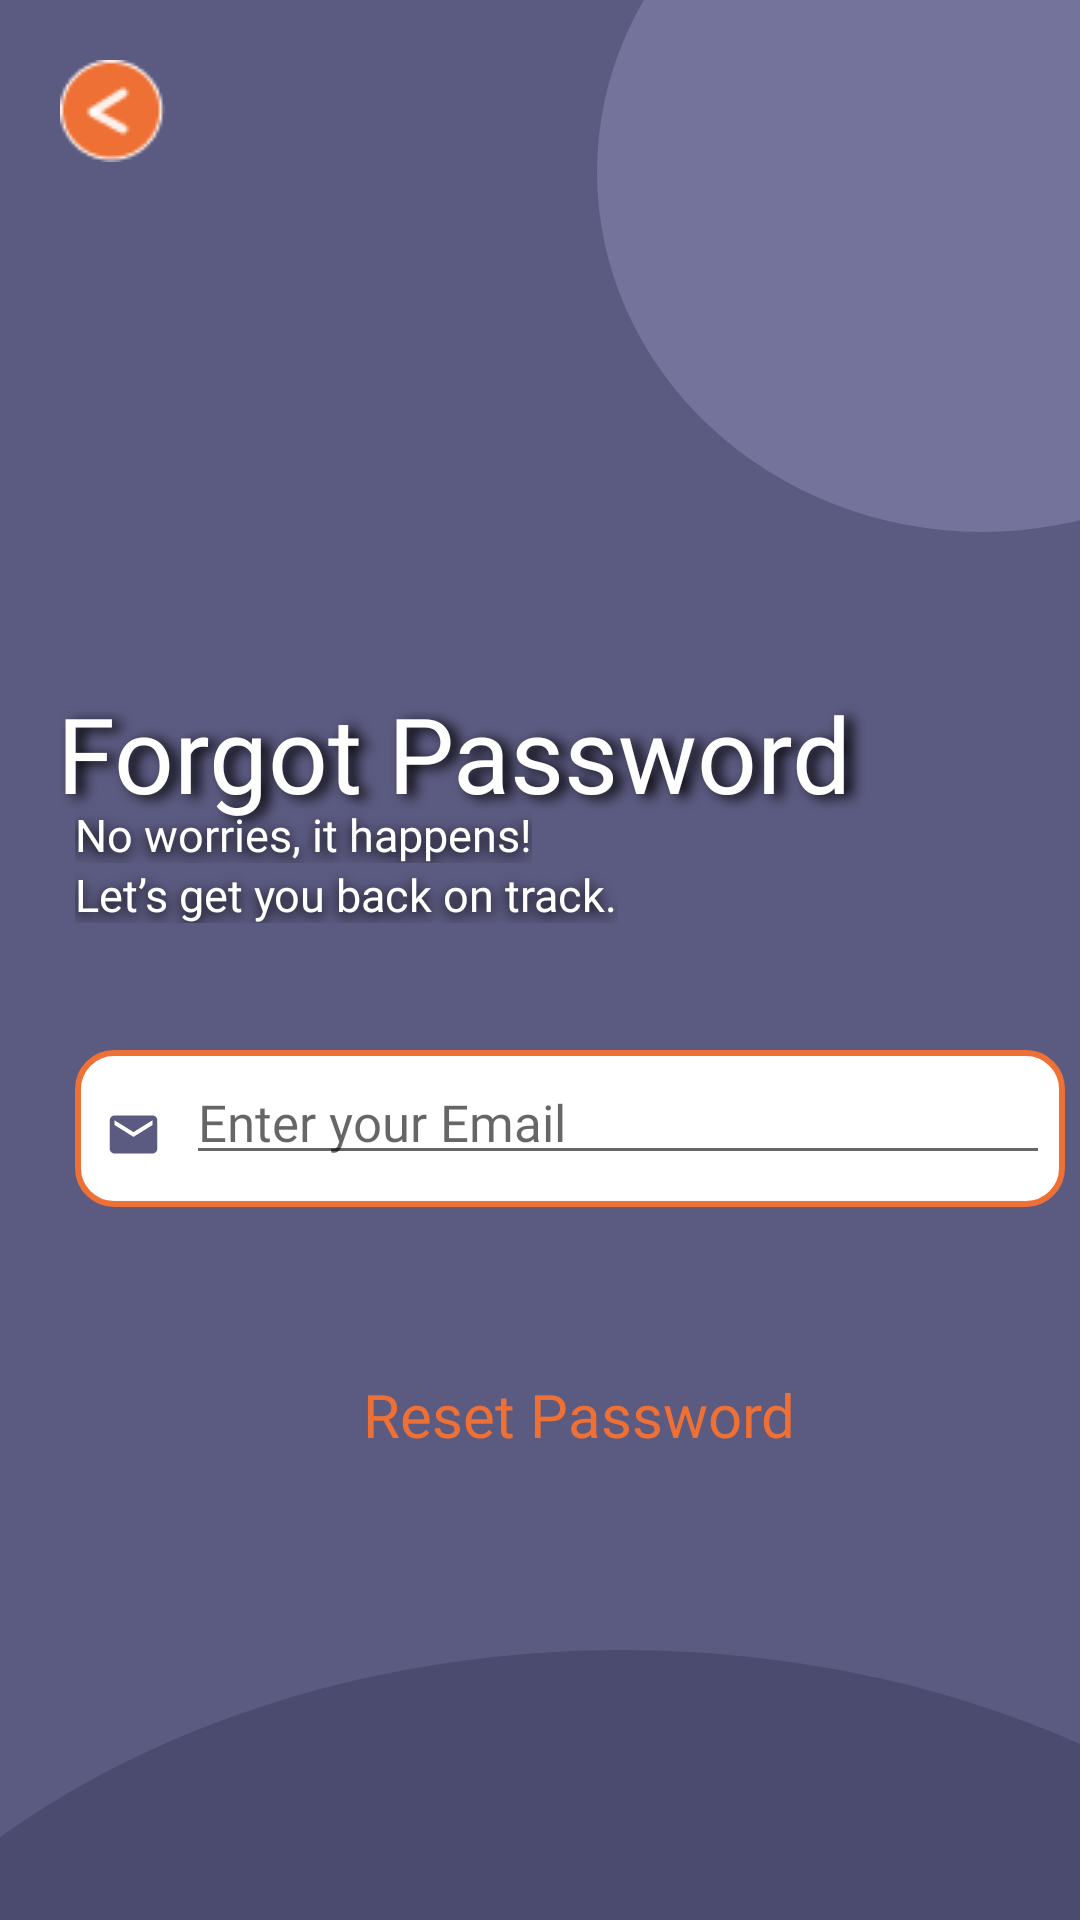

Where icons sit on this 1080*1920 app screen, as (x1, y1, x2, y2):
back: (60, 60, 163, 162)
